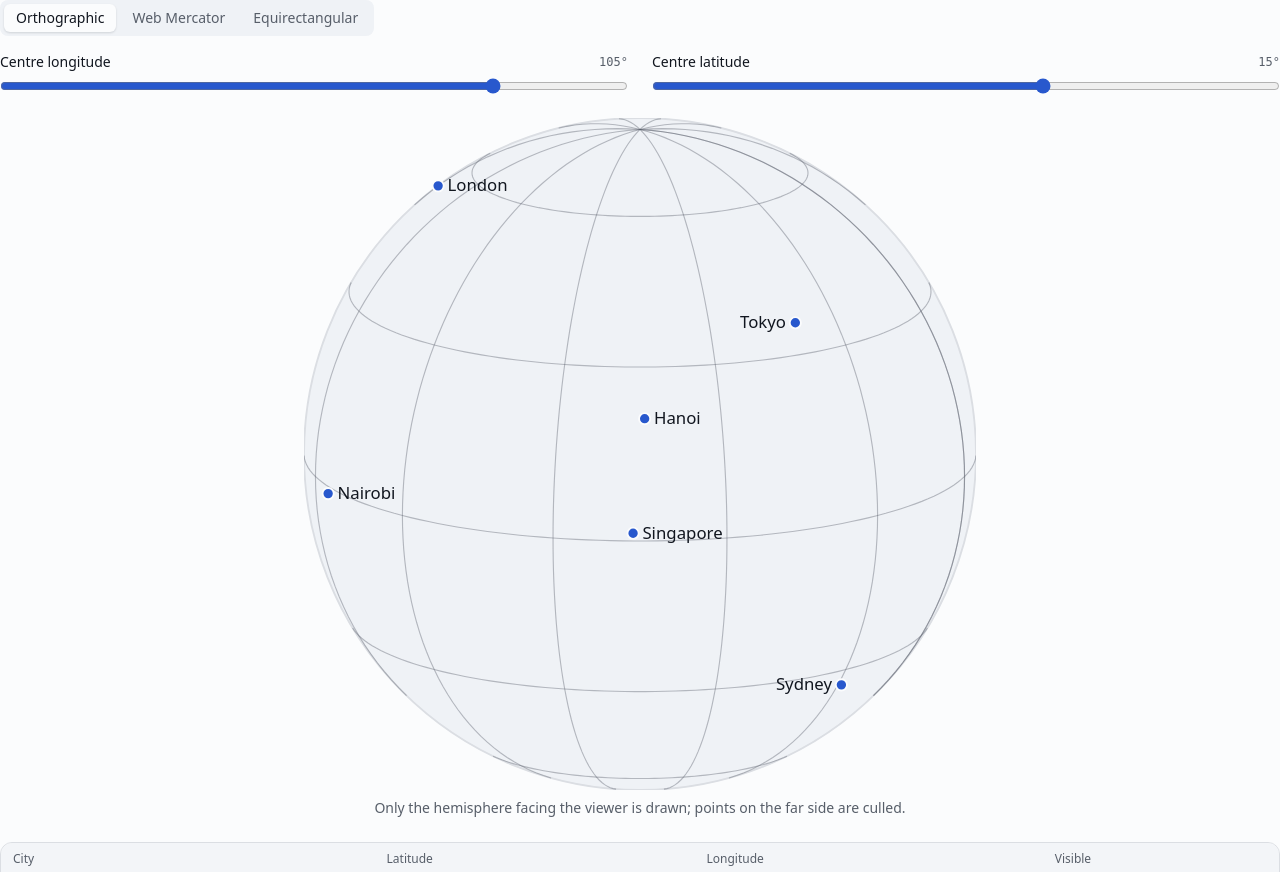
Test: MapProjectionsDemo › updates which cities face the viewer as the globe turns
The image size is (1280, 872).
Set the slider labelled "Centre longitude" to "-75". click: coordinates (186, 86)
box: [0,78,628,94]
(page scrolled)
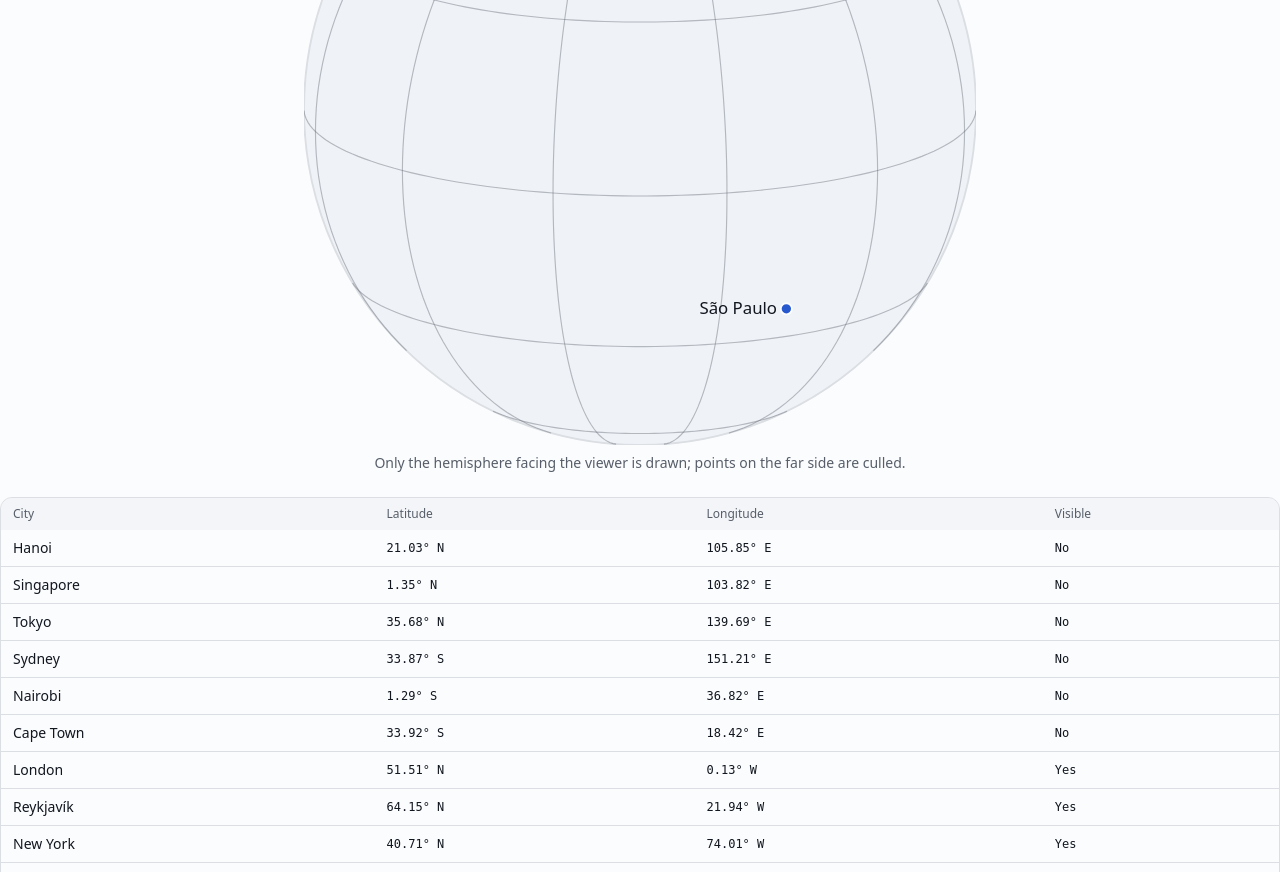
Expected: the row "New York 40.71° N 74.01° W Yes" is shown, [1,826,1279,862]
